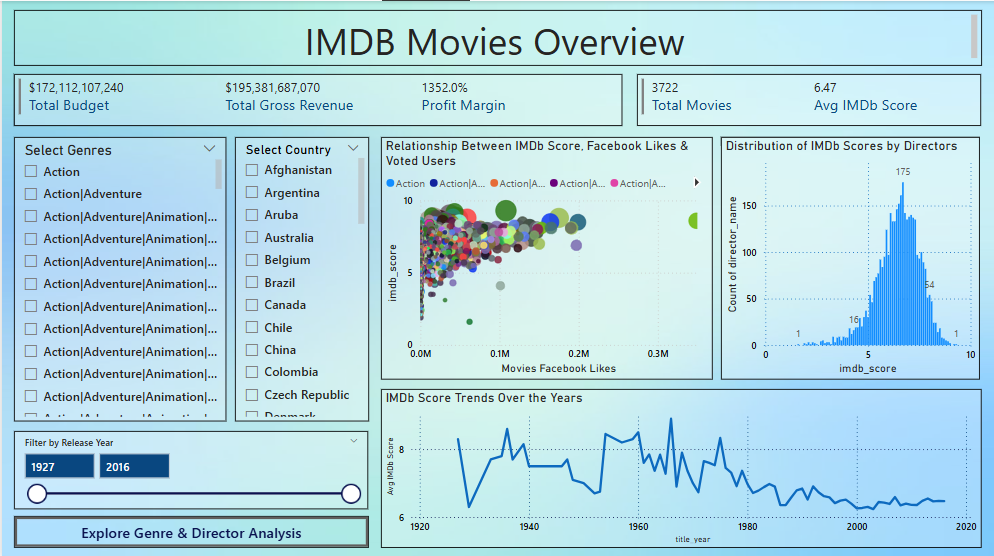

This screenshot's page, from the dashboard's own definition file:
{"tool":"powerbi","page":{"name":"IMDB Movies Overview","canvas":[1280,720],"ordinal":0},"visuals":[{"type":"multiRowCard","fields":{"Values":["measure.Total Movies","measure.Avg IMDb Score"]},"box":[819.9,94.4,443.7,67.4],"z":0},{"type":"multiRowCard","fields":{"Values":["measure.Total Budget","measure.Total Gross Revenue","measure.Profit Margin"]},"box":[15,94.4,785.4,67.4],"z":1000},{"type":"lineChart","title":"IMDb Score Trends Over the Years","fields":{"Category":["IMDB_Movies.title_year"],"Y":["measure.Avg IMDb Score"]},"box":[488.6,500.6,774.9,205.3],"z":2000},{"type":"scatterChart","title":"Relationship Between IMDb Score, Facebook Likes & Voted Users","fields":{"X":["IMDB_Movies.movie_facebook_likes"],"Y":["IMDB_Movies.imdb_score"],"Series":["IMDB_Movies.genres"],"Size":["Sum(IMDB_Movies.num_voted_users)"]},"box":[489.2,175,428.2,312.6],"z":3000},{"type":"clusteredColumnChart","title":"Distribution of IMDb Scores by Directors ","fields":{"Category":["IMDB_Movies.imdb_score"],"Y":["CountNonNull(IMDB_Movies.director_name)"]},"box":[928.4,175,334.5,312.6],"z":4000},{"type":"textbox","box":[15,12,1248.5,71.9],"z":5000},{"type":"slicer","fields":{"Values":["IMDB_Movies.genres"]},"box":[15.6,175,273.5,367.3],"z":6000},{"type":"slicer","fields":{"Values":["IMDB_Movies.title_year"]},"box":[15.5,554.8,456.8,100.6],"z":7000},{"type":"slicer","fields":{"Values":["IMDB_Movies.country"]},"box":[300.1,175,173.5,367.3],"z":8000},{"type":"actionButton","box":[15.6,664.2,457.9,40.6],"z":9000}]}

Visuals, with their boxes in screenshot pixels (x1, y1, x2, y2), scaled from the page's 1280x720 canvas onto the 994x556 screenshot:
multiRowCard - measure.Total Movies x measure.Avg IMDb Score: bbox=[637, 73, 981, 125]
multiRowCard - measure.Total Budget x measure.Total Gross Revenue: bbox=[12, 73, 622, 125]
"IMDb Score Trends Over the Years" lineChart: bbox=[379, 387, 981, 545]
"Relationship Between IMDb Score, Facebook Likes & Voted Users" scatterChart: bbox=[380, 135, 712, 377]
"Distribution of IMDb Scores by Directors " clusteredColumnChart: bbox=[721, 135, 981, 377]
textbox: bbox=[12, 9, 981, 65]
slicer - IMDB_Movies.genres: bbox=[12, 135, 225, 419]
slicer - IMDB_Movies.title_year: bbox=[12, 428, 367, 506]
slicer - IMDB_Movies.country: bbox=[233, 135, 368, 419]
actionButton: bbox=[12, 513, 368, 544]
